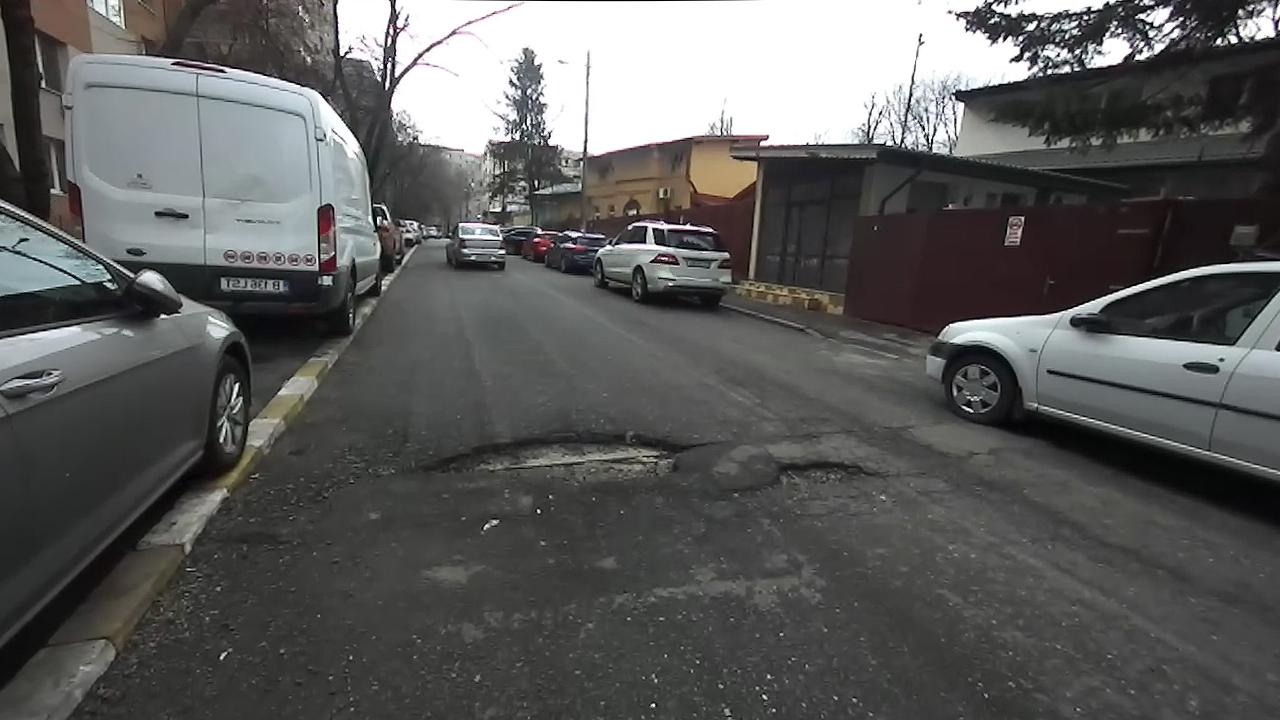pothole: (391, 424, 695, 500), (723, 455, 890, 505)
